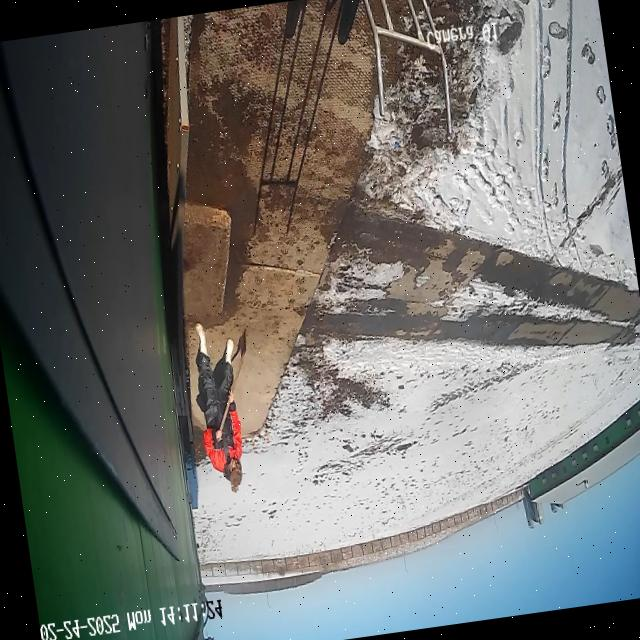Red uniform: (184, 316, 256, 497)
